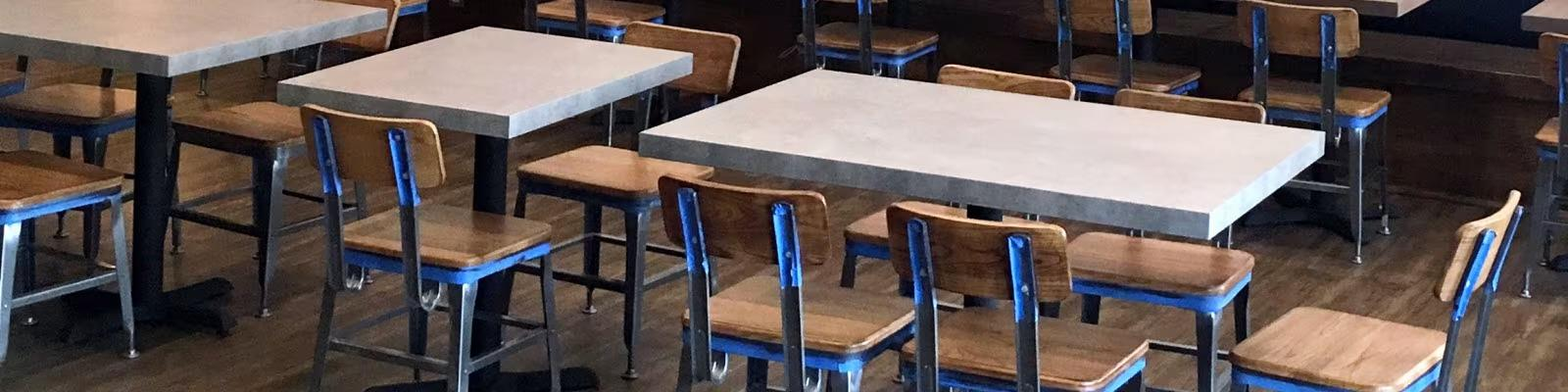Clean Table: (630, 24, 1383, 265), (0, 0, 599, 215)
